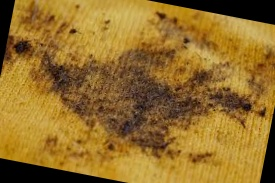earth: (57, 66, 202, 131), (106, 119, 172, 151), (123, 48, 159, 81), (211, 89, 253, 115), (37, 56, 63, 91), (187, 70, 214, 89), (13, 38, 34, 58)
